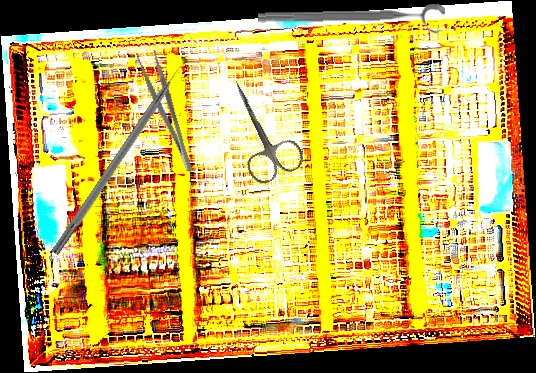Dressing Forceps: (135, 49, 196, 177)
Fixation Ring: (257, 3, 446, 38)
Hook Surgical: (51, 56, 192, 257)
Iris Scissors: (211, 68, 308, 189)
